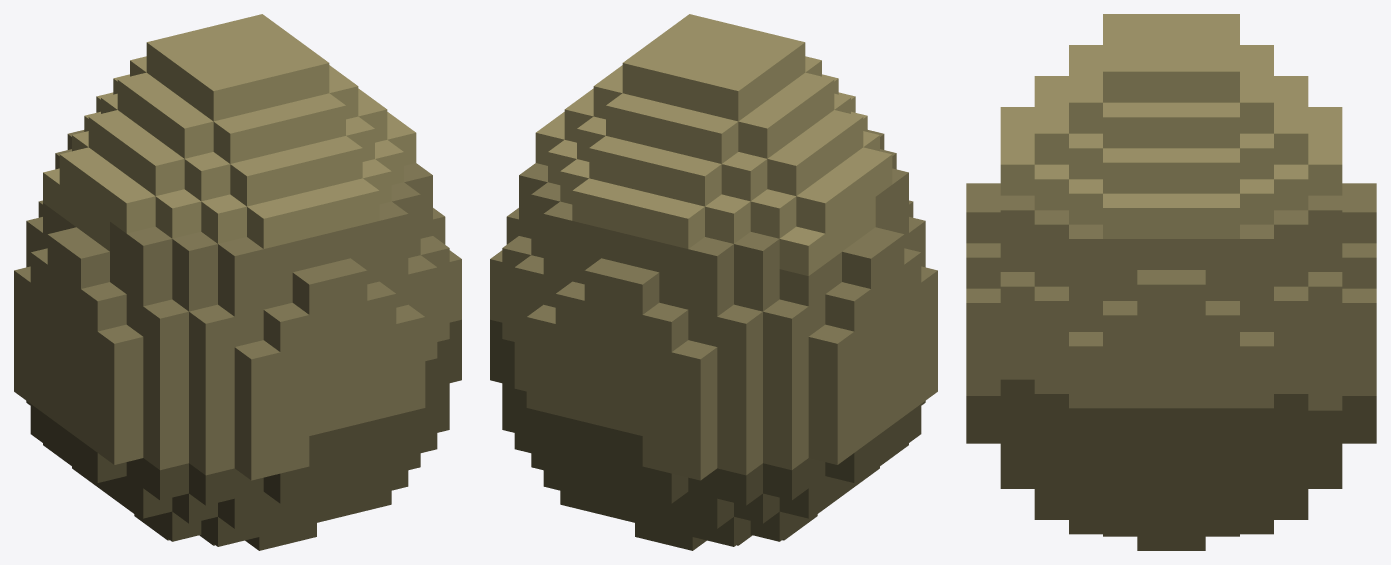
File: Sand_Egg.glb
The picture shows the model from 3 angles, left to right: view 1: azimuth 30°, elevation 25°; view 2: azimuth 150°, elevation 25°; view 3: azimuth 270°, elevation 25°; orthographic projection. The views are drawn at different scales.
Parts seen in each view (by area): view 1: Cube_copy_copy_copy_copy_copy_copy_copy_copy_copy_copy_copy_ (×68), Cube_copy_copy_copy_6, Cube_copy_copy_copy_copy_copy_copy_copy_copy_copy, Cube_copy_copy_copy_9, Cube_copy_copy_copy_2, Cube_copy_4, Cube_copy_1, Cube_copy_copy_copy_copy_copy_5, Cube_copy_copy_copy, Cube_copy_copy_copy_copy, Cube_copy_copy_copy_copy_copy_1, Cube_copy_copy_copy_copy_copy_copy_copy_copy_1 (+63 smaller); view 2: Cube_copy_copy_copy_copy_copy_copy_copy_copy_copy_copy_copy_ (×70), Cube_copy_copy_copy_copy_copy_15, Cube_copy_copy_copy_copy_copy_17, Cube_copy_copy_4, Cube_copy_copy_copy_20, Cube, Cube_copy_copy_1, Cube_copy_copy_copy_copy_copy_copy_copy_25, Cube_copy_copy_copy_3, Cube_copy_copy_copy_copy_1, Cube_copy_copy_copy_copy_copy, Cube_copy_copy_copy_copy_copy_copy_21 (+61 smaller); view 3: Cube_copy_copy_copy_copy_copy_copy_copy_copy_copy_copy_copy_ (×103), Cube_copy_copy_copy_copy_4, Cube_copy_copy_copy_copy_15, Cube_copy_copy_8, Cube_copy_copy_copy_copy_6, Cube_copy_copy_copy_copy_copy_copy_12, Cube_copy_copy_copy_13, Cube_copy_copy_15, Cube_copy_copy_copy_copy_18, Cube_copy_copy_copy_copy_copy_copy_copy_copy_copy_copy_2, Cube_copy_5, Cube_copy_copy_12 (+60 smaller).
Part boxes in pixels (<box>): Cube_copy_copy_copy_copy_copy_copy_copy_copy_copy_copy_copy_ (×68): <box>26,35,449,546</box>; Cube_copy_copy_copy_6: <box>292,265,338,314</box>; Cube_copy_copy_copy_copy_copy_copy_copy_copy_copy: <box>126,226,172,275</box>; Cube_copy_copy_copy_9: <box>234,340,280,389</box>; Cube_copy_copy_copy_2: <box>97,324,143,373</box>; Cube_copy_4: <box>263,302,309,352</box>; Cube_copy_1: <box>81,282,126,331</box>; Cube_copy_copy_copy_copy_copy_5: <box>143,299,188,348</box>; Cube_copy_copy_copy: <box>64,239,109,288</box>; Cube_copy_copy_copy_copy: <box>97,362,143,404</box>; Cube_copy_copy_copy_copy_copy_1: <box>97,392,143,434</box>; Cube_copy_copy_copy_copy_copy_copy_copy_copy_1: <box>126,264,172,306</box>; Cube_copy_copy_copy_copy_copy_copy_copy_copy_copy_copy_copy_ (×70): <box>514,35,892,546</box>; Cube_copy_copy_copy_copy_copy_15: <box>613,265,659,314</box>; Cube_copy_copy_copy_copy_copy_17: <box>671,340,717,389</box>; Cube_copy_copy_4: <box>808,324,854,373</box>; Cube_copy_copy_copy_20: <box>642,302,688,352</box>; Cube: <box>825,282,870,331</box>; Cube_copy_copy_1: <box>842,239,887,288</box>; Cube_copy_copy_copy_copy_copy_copy_copy_25: <box>717,304,762,353</box>; Cube_copy_copy_copy_3: <box>808,362,854,404</box>; Cube_copy_copy_copy_copy_1: <box>808,392,854,434</box>; Cube_copy_copy_copy_copy_copy: <box>808,423,854,464</box>; Cube_copy_copy_copy_copy_copy_copy_21: <box>671,378,717,419</box>; Cube_copy_copy_copy_copy_copy_copy_copy_copy_copy_copy_copy_ (×103): <box>1000,14,1342,550</box>; Cube_copy_copy_copy_copy_4: <box>966,197,1000,243</box>; Cube_copy_copy_copy_copy_15: <box>1342,197,1376,243</box>; Cube_copy_copy_8: <box>966,243,1000,288</box>; Cube_copy_copy_copy_copy_6: <box>966,288,1000,333</box>; Cube_copy_copy_copy_copy_copy_copy_12: <box>1000,272,1034,317</box>; Cube_copy_copy_copy_13: <box>1137,270,1171,315</box>; Cube_copy_copy_15: <box>1342,243,1376,288</box>; Cube_copy_copy_copy_copy_18: <box>1342,288,1376,333</box>; Cube_copy_copy_copy_copy_copy_copy_copy_copy_copy_copy_2: <box>1000,195,1034,240</box>; Cube_copy_5: <box>1103,301,1137,346</box>; Cube_copy_copy_12: <box>1205,301,1239,346</box>.
Size of the model in its own units: 1.2 by 1.5 by 1.2.
